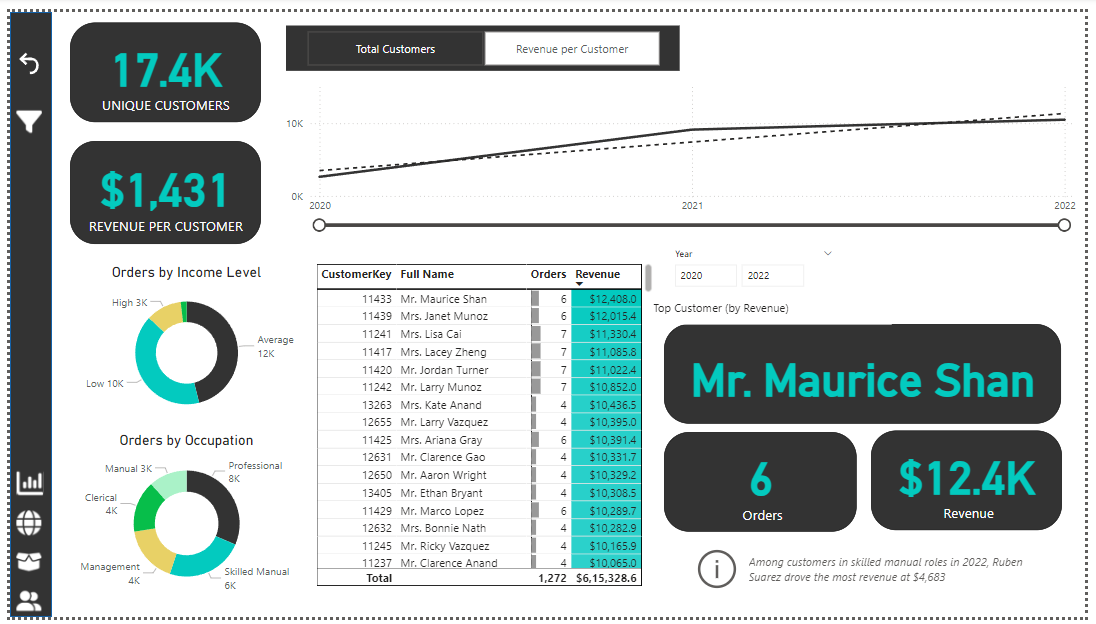

This screenshot's page, from the dashboard's own definition file:
{"tool":"powerbi","page":{"name":"Customer Details","canvas":[1280,720],"ordinal":3},"visuals":[{"type":"card","fields":{"Values":["Measure Table.Total Customers"]},"box":[70.8,12.5,227.1,118.8],"z":0},{"type":"actionButton","box":[3.3,541.7,48.3,40],"z":0,"group":"g1"},{"type":"card","fields":{"Values":["Measure Table.Average Revenue per Customer"]},"box":[70.8,154.2,227.1,122.9],"z":1000},{"type":"actionButton","box":[4.1,589.1,45.6,37.8],"z":1000,"group":"g1"},{"type":"slicer","fields":{"Values":["customer Metrics.customer Metrics"]},"box":[329.2,16.7,468.8,54.2],"z":2000},{"type":"actionButton","box":[4.1,636.9,45.6,37.8],"z":2000,"group":"g1"},{"type":"lineChart","fields":{"Y":["Measure Table.Total Customers"],"Category":["Calendar Lookup.Date Hierarchy.Year","Calendar Lookup.Date Hierarchy.Start of Month","Calendar Lookup.Date Hierarchy.Start of Week","Calendar Lookup.Date Hierarchy.Date"]},"box":[322.9,75,950,189.6],"z":3000},{"type":"actionButton","box":[4.1,683.6,45.6,37.8],"z":3000,"group":"g1"},{"type":"donutChart","title":" Orders by Income Level","fields":{"Category":["Customer Lookup.Income Level"],"Y":["Measure Table.Total Orders"]},"box":[70.8,300,277.1,191.7],"z":4000},{"type":"donutChart","title":" Orders by Occupation","fields":{"Category":["Customer Lookup.Occupation"],"Y":["Measure Table.Total Orders"]},"box":[70.8,500,277.1,197.9],"z":5000},{"type":"tableEx","fields":{"Values":["Customer Lookup.CustomerKey","Customer Lookup.Full Name","Measure Table.Total Orders","Measure Table.Total Revenue"]},"box":[358.3,293.8,410.4,393.8],"z":6000},{"type":"slicer","fields":{"Values":["Calendar Lookup.Year"]},"box":[779.2,277.1,212.5,60.4],"z":7000},{"type":"card","fields":{"Values":["Min(Customer Lookup.Full Name)"]},"box":[779.2,370.8,472.9,118.8],"z":8000},{"type":"card","fields":{"Values":["Measure Table.Total Orders"]},"box":[779.2,500,229.2,118.8],"z":9000},{"type":"card","fields":{"Values":["Measure Table.Total Revenue"]},"box":[1025,497.9,227.1,118.8],"z":10000},{"type":"actionButton","box":[812.5,633.3,408.3,58.3],"z":11000},{"type":"textbox","box":[760.4,337,288.4,34.9],"z":12000},{"type":"shape","box":[0,0,50,720],"z":12001},{"type":"group","id":"g1","title":"Navigation Buttons","box":[3.3,541.7,48.3,178.3],"z":12002},{"type":"actionButton","box":[5,43.3,35,36.7],"z":12003},{"type":"actionButton","box":[3.3,110,38.3,40],"z":12004}]}

Visuals, with their boxes on the page's 1280x720 design canvas (x1, y1, x2, y2). These are canvas units, not pixel positions in the 1096x624 screenshot, which may show the page scaled, cropped or inside an application window:
card - Measure Table.Total Customers: detection(71, 12, 298, 131)
actionButton: detection(3, 542, 52, 582)
card - Measure Table.Average Revenue per Customer: detection(71, 154, 298, 277)
actionButton: detection(4, 589, 50, 627)
slicer - customer Metrics.customer Metrics: detection(329, 17, 798, 71)
actionButton: detection(4, 637, 50, 675)
lineChart - Measure Table.Total Customers x Calendar Lookup.Date Hierarchy.Year: detection(323, 75, 1273, 265)
actionButton: detection(4, 684, 50, 721)
" Orders by Income Level" donutChart: detection(71, 300, 348, 492)
" Orders by Occupation" donutChart: detection(71, 500, 348, 698)
tableEx - Customer Lookup.CustomerKey x Customer Lookup.Full Name: detection(358, 294, 769, 688)
slicer - Calendar Lookup.Year: detection(779, 277, 992, 338)
card - Min(Customer Lookup.Full Name): detection(779, 371, 1252, 490)
card - Measure Table.Total Orders: detection(779, 500, 1008, 619)
card - Measure Table.Total Revenue: detection(1025, 498, 1252, 617)
actionButton: detection(812, 633, 1221, 692)
textbox: detection(760, 337, 1049, 372)
shape: detection(0, 0, 50, 720)
"Navigation Buttons" group: detection(3, 542, 52, 720)
actionButton: detection(5, 43, 40, 80)
actionButton: detection(3, 110, 42, 150)
